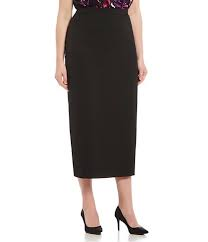F_tailored skirt: (53, 11, 148, 185)
